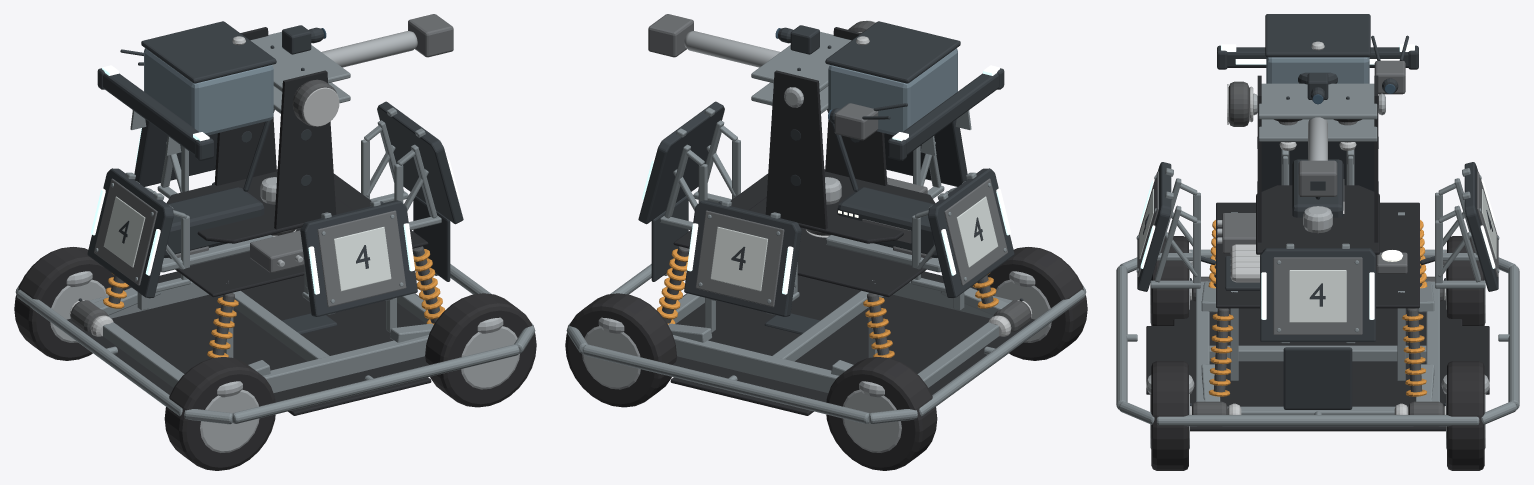
Rendered from robot-302-spec2026v3.glb.
The picture shows the model from 3 angles, left to right: view 1: azimuth 30°, elevation 25°; view 2: azimuth 150°, elevation 25°; view 3: azimuth 270°, elevation 25°; orthographic projection.
Parts seen in each view (by area): view 1: Chassis_CarbonPlate, Chassis_RobotMatteAluminum, Turret_CarbonPlate, MagazineBox, SwerveTyre, SwerveTyre.002, Chassis_RobotMatteGraphite, SwerveTyre.001, MagazineLid, ArmorModuleBody, Turret_RobotMatteGraphite, ArmorHitFace.003 (+22 smaller); view 2: Chassis_CarbonPlate, Chassis_RobotMatteAluminum, Turret_CarbonPlate, SwerveTyre.001, SwerveTyre.003, MagazineBox, Chassis_RobotMatteGraphite, SwerveTyre, MagazineLid, ArmorModuleBody, Turret_RobotMatteGraphite, ArmorHitFace.001 (+22 smaller); view 3: Chassis_CarbonPlate, Chassis_RobotMatteAluminum, Turret_CarbonPlate, Chassis_RobotMatteGraphite, GunPitch_RobotMatteAluminum, MagazineLid, ArmorHitFace, SwerveTyre.002, SwerveTyre.003, ArmorModuleBody, ArmorSticker, ArmorModuleBody.002 (+25 smaller).
Boxes of the visible parts, left/top/right/bottom form: Chassis_CarbonPlate: left=67, top=173, right=431, bottom=415; Chassis_RobotMatteAluminum: left=15, top=235, right=535, bottom=424; Turret_CarbonPlate: left=166, top=27, right=353, bottom=243; MagazineBox: left=144, top=48, right=273, bottom=135; SwerveTyre: left=164, top=357, right=275, bottom=470; SwerveTyre.002: left=425, top=293, right=536, bottom=407; Chassis_RobotMatteGraphite: left=78, top=187, right=450, bottom=334; SwerveTyre.001: left=14, top=247, right=124, bottom=360; MagazineLid: left=141, top=21, right=276, bottom=83; ArmorModuleBody: left=377, top=101, right=463, bottom=224; Turret_RobotMatteGraphite: left=97, top=49, right=311, bottom=191; ArmorHitFace.003: left=317, top=210, right=406, bottom=307; Chassis_CarbonPlate: left=670, top=173, right=1034, bottom=415; Chassis_RobotMatteAluminum: left=566, top=235, right=1086, bottom=424; Turret_CarbonPlate: left=748, top=27, right=935, bottom=243; SwerveTyre.001: left=826, top=357, right=937, bottom=470; SwerveTyre.003: left=565, top=293, right=676, bottom=407; MagazineBox: left=828, top=48, right=957, bottom=135; Chassis_RobotMatteGraphite: left=651, top=187, right=1023, bottom=334; SwerveTyre: left=977, top=247, right=1087, bottom=360; MagazineLid: left=825, top=21, right=960, bottom=83; ArmorModuleBody: left=638, top=101, right=724, bottom=224; Turret_RobotMatteGraphite: left=790, top=68, right=1004, bottom=191; ArmorHitFace.001: left=695, top=210, right=784, bottom=307; Chassis_CarbonPlate: left=1146, top=202, right=1489, bottom=431; Chassis_RobotMatteAluminum: left=1116, top=212, right=1519, bottom=426; Turret_CarbonPlate: left=1256, top=75, right=1379, bottom=254; Chassis_RobotMatteGraphite: left=1190, top=159, right=1445, bottom=409; GunPitch_RobotMatteAluminum: left=1258, top=83, right=1377, bottom=141; MagazineLid: left=1265, top=14, right=1370, bottom=57; ArmorHitFace: left=1273, top=257, right=1362, bottom=334; SwerveTyre.002: left=1151, top=361, right=1188, bottom=470; SwerveTyre.003: left=1447, top=361, right=1484, bottom=470; ArmorModuleBody: left=1260, top=248, right=1375, bottom=341; ArmorSticker: left=1289, top=270, right=1346, bottom=322; ArmorModuleBody.002: left=1261, top=142, right=1374, bottom=191.
Bounding box in the file's own units: 0.59 × 0.5506 × 0.5869.
